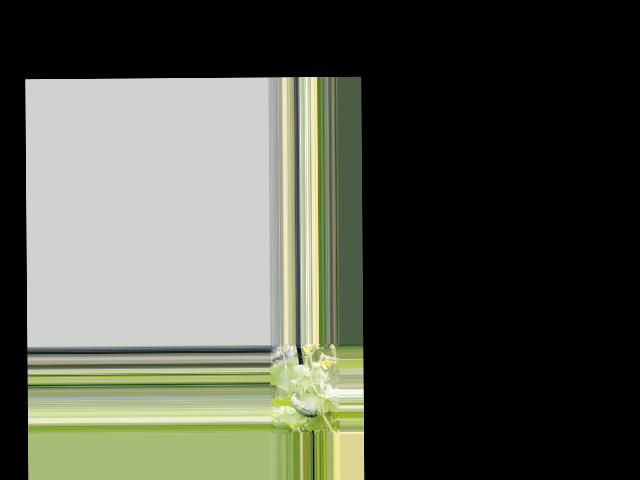cucumber: (290, 392, 319, 417)
